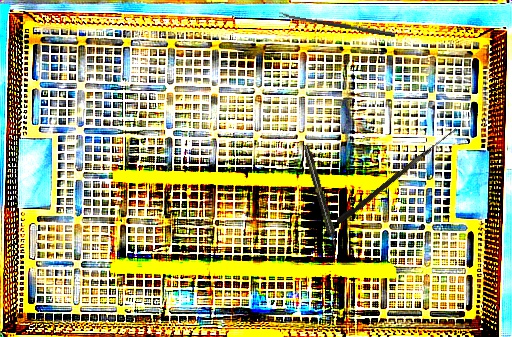Handpiece: (301, 143, 340, 250)
Hook Surgical: (335, 122, 458, 227)
Surgical Spoon: (278, 11, 396, 38)
